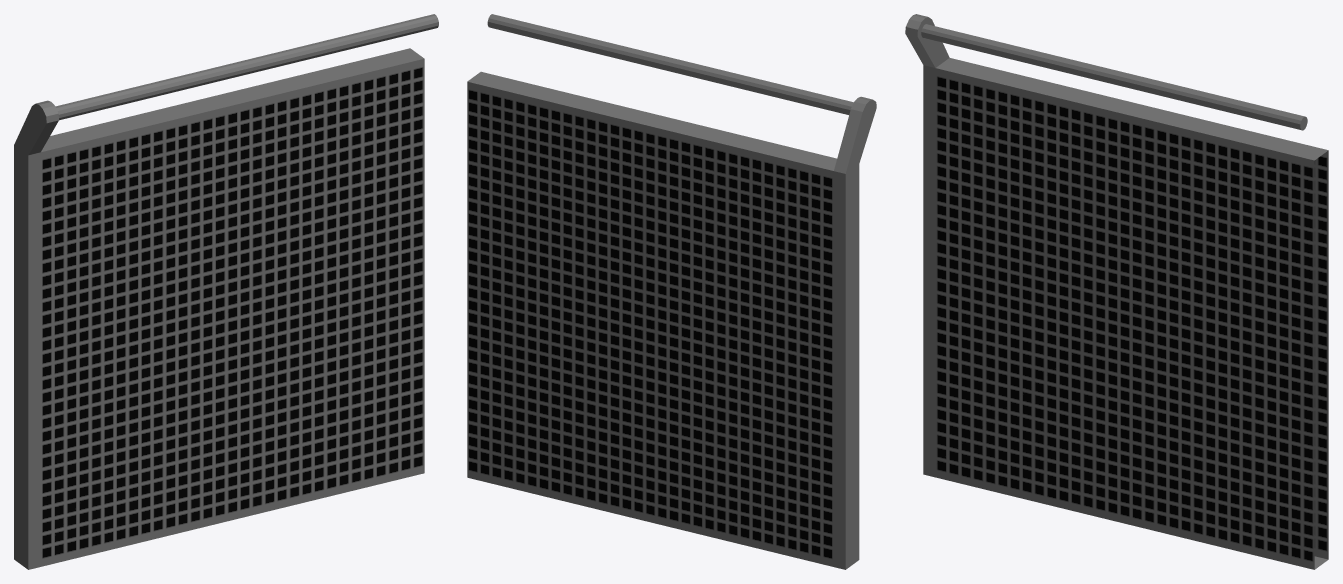
File: nyc_subway_platform_barrier_1a.obj
3 renders of one model, left to right at view 1: azimuth 30°, elevation 25°; view 2: azimuth 150°, elevation 25°; view 3: azimuth 330°, elevation 25°, orthographic. The views are drawn at different scales.
Parts seen in each view (by area): view 1: cube, cylinder; view 2: cube, cylinder; view 3: cube, cylinder.
Part boxes in pixels (x1=…): cube: x1=14, y1=48, x2=424, y2=569; cylinder: x1=35, y1=14, x2=438, y2=124; cube: x1=467, y1=71, x2=876, y2=569; cylinder: x1=487, y1=14, x2=872, y2=119; cube: x1=905, y1=14, x2=1328, y2=569; cylinder: x1=921, y1=24, x2=1307, y2=130.
Size of the model in its own units: 1 by 1.14 by 0.1425.
Materials: 1 (1 with a texture image).
